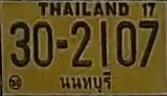0: (32, 21, 52, 66), (116, 20, 135, 66)
1: (100, 21, 106, 66)
2: (72, 20, 90, 66)
3: (9, 21, 29, 66)
7: (138, 20, 158, 66)
NBI: (57, 67, 112, 95)
